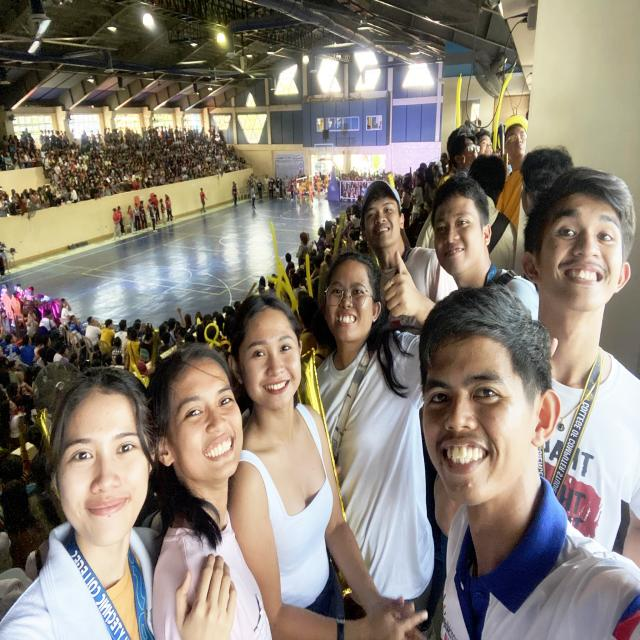other_gesture: (319, 519, 432, 640)
